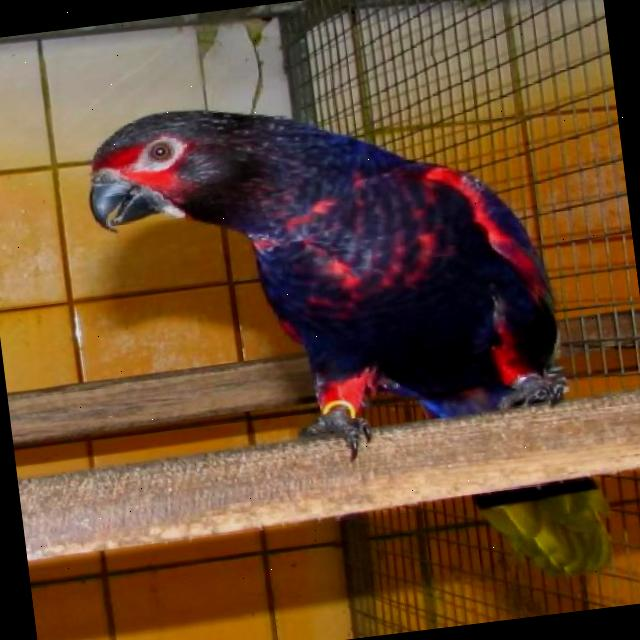Nuri Hitam: (54, 14, 639, 640)
